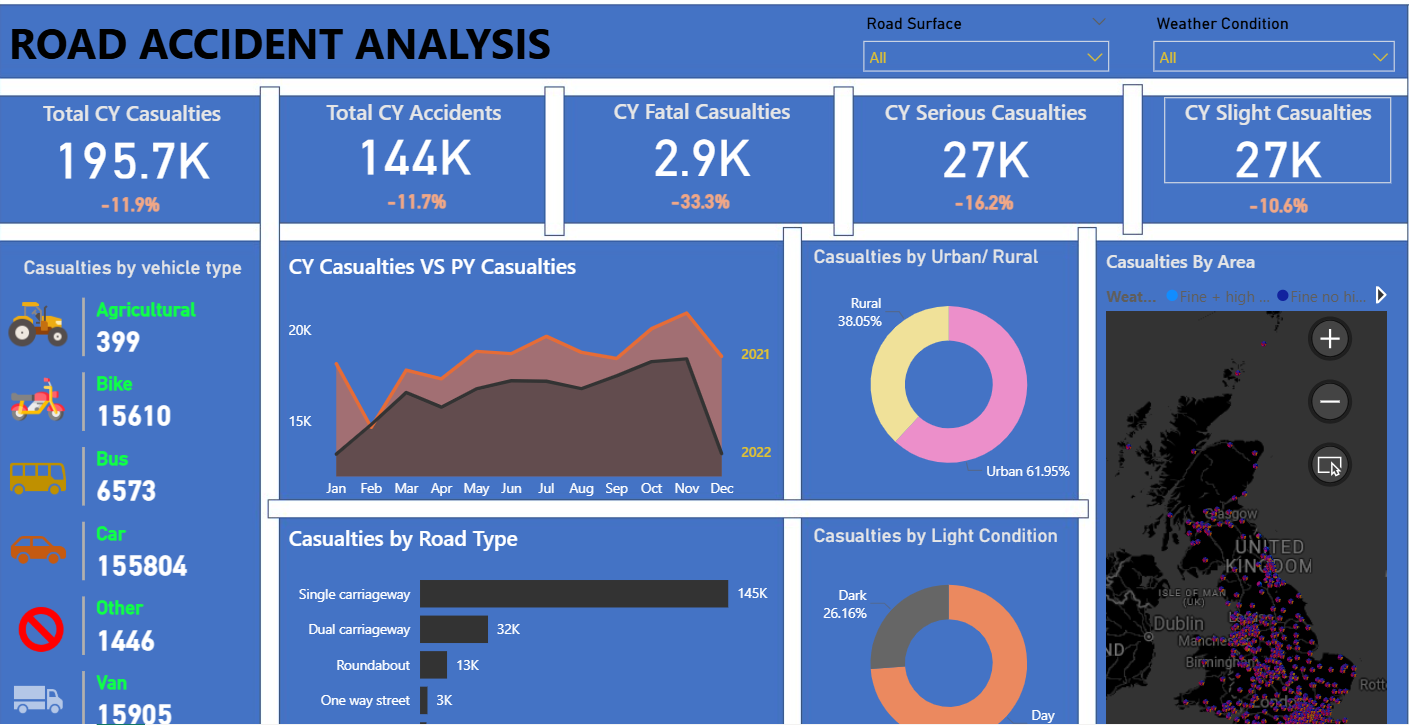

Layout of this report page (visuals, bound fields, positions):
{"tool":"powerbi","page":{"name":"Page 2","canvas":[1280,720],"ordinal":0},"visuals":[{"type":"card","title":"CY Fatal Casualties","fields":{"Values":["Data.CY Casualties"]},"box":[538.1,92.9,202.7,76],"z":0,"group":"g3"},{"type":"card","title":"Total CY Accidents","fields":{"Values":["Data.CY Accidents Count"]},"box":[266.6,94.1,232.8,73.6],"z":0,"group":"g2"},{"type":"card","title":"CY Serious Casualties","fields":{"Values":["Data.CY Casualties"]},"box":[790.4,94.7,202.7,76],"z":0,"group":"g4"},{"type":"card","title":"CY Slight Casualties","fields":{"Values":["Data.CY Casualties"]},"box":[1049.7,94.7,202.7,76],"z":0,"group":"g5"},{"type":"group","id":"g1","title":"Group 1","box":[31.4,95.3,202.7,109.4],"z":0},{"type":"card","title":"Total CY Casualties","fields":{"Values":["Data.CY Casualties"]},"box":[31.4,95.3,202.7,76],"z":0,"group":"g1"},{"type":"group","id":"g2","title":"Group 1","box":[266.6,94.1,232.8,109.7],"z":1000},{"type":"card","fields":{"Values":["Data.YoY Accidents"]},"box":[316.5,171.2,137.5,32.6],"z":1000,"group":"g2"},{"type":"card","fields":{"Values":["Data.YoY Casualties"]},"box":[606.4,173.4,63.9,29],"z":1000,"group":"g3"},{"type":"card","fields":{"Values":["Data.YoY Casualties"]},"box":[858.7,175.2,63.9,29],"z":1000,"group":"g4"},{"type":"card","fields":{"Values":["Data.YoY Casualties"]},"box":[99.7,175.8,63.9,29],"z":1000,"group":"g1"},{"type":"group","id":"g3","title":"Group 1","box":[538.1,92.9,202.7,109.8],"z":2000},{"type":"group","id":"g4","title":"Group 1","box":[790.4,94.7,203.1,109.8],"z":3000},{"type":"card","fields":{"Values":["Data.YoY Casualties"]},"box":[1119.7,177,63.1,28.8],"z":4000},{"type":"group","id":"g5","title":"Group 1","box":[1049.7,94.7,202.7,76],"z":5000},{"type":"textbox","box":[17.8,15.1,975.6,78.2],"z":6000},{"type":"multiRowCard","fields":{"Values":["Data.Vehicle_Type (groups)","Data.CY Casualties"]},"box":[83.7,267.6,150.9,435],"z":7000},{"type":"image","box":[14.1,267.6,69,56.3],"z":8000},{"type":"image","box":[14.1,339.4,69,47.9],"z":9000},{"type":"image","box":[14.1,470.4,69,53.5],"z":10000},{"type":"image","box":[14.1,405.6,69,54.9],"z":11000},{"type":"image","box":[5.6,605.6,87.3,47.9],"z":12000},{"type":"image","box":[14.1,542.3,74.6,50.7],"z":13000},{"type":"textbox","box":[31,231,231,73.2],"z":14000},{"type":"areaChart","title":"CY Casualties VS PY Casualties ","fields":{"Category":["Calender.Month"],"Y":["Sum(Data.Number_of_Casualties)"],"Series":["Calender.Date.Variation.Date Hierarchy.Year"]},"box":[266.2,231,442.3,229.6],"z":15000},{"type":"donutChart","title":" Casualties by Urban/ Rural ","fields":{"Category":["Data.Urban_or_Rural_Area"],"Y":["Data.CY Casualties"]},"box":[733.8,225.4,250.7,229.6],"z":16000},{"type":"donutChart","title":" Casualties by Light Condition","fields":{"Y":["Data.CY Casualties"],"Category":["Data.Light_Conditions (groups)"]},"box":[733.8,473.2,250.7,229.6],"z":17000},{"type":"barChart","title":" Casualties by Road Type","fields":{"Category":["Data.Road_Type"],"Y":["Data.CY Casualties"]},"box":[266.2,473.2,442.3,229.6],"z":18000},{"type":"map","title":"Casualties By Area","fields":{"Y":["Data.Latitude"],"X":["Data.Longitude"],"Category":["Data.Local_Authority_(District)"],"Series":["Data.Weather_Conditions"]},"box":[993.5,229.2,259.3,473.4],"z":19000},{"type":"slicer","fields":{"Values":["Data.Weather_Conditions (groups)"]},"box":[1030.5,15.1,234.6,57.6],"z":20000},{"type":"slicer","fields":{"Values":["Data.Road_Surface_Conditions (groups)"]},"box":[772.6,15.1,238.8,57.6],"z":21000}]}

Visuals, with their boxes on the page's 1280x720 design canvas (x1, y1, x2, y2). These are canvas units, not pixel positions in the 1409x725 screenshot, which may show the page scaled, cropped or inside an application window:
"CY Fatal Casualties" card: bbox(538, 93, 741, 169)
"Total CY Accidents" card: bbox(267, 94, 499, 168)
"CY Serious Casualties" card: bbox(790, 95, 993, 171)
"CY Slight Casualties" card: bbox(1050, 95, 1252, 171)
"Group 1" group: bbox(31, 95, 234, 205)
"Total CY Casualties" card: bbox(31, 95, 234, 171)
"Group 1" group: bbox(267, 94, 499, 204)
card - Data.YoY Accidents: bbox(316, 171, 454, 204)
card - Data.YoY Casualties: bbox(606, 173, 670, 202)
card - Data.YoY Casualties: bbox(859, 175, 923, 204)
card - Data.YoY Casualties: bbox(100, 176, 164, 205)
"Group 1" group: bbox(538, 93, 741, 203)
"Group 1" group: bbox(790, 95, 994, 204)
card - Data.YoY Casualties: bbox(1120, 177, 1183, 206)
"Group 1" group: bbox(1050, 95, 1252, 171)
textbox: bbox(18, 15, 993, 93)
multiRowCard - Data.Vehicle_Type (groups) x Data.CY Casualties: bbox(84, 268, 235, 703)
image: bbox(14, 268, 83, 324)
image: bbox(14, 339, 83, 387)
image: bbox(14, 470, 83, 524)
image: bbox(14, 406, 83, 460)
image: bbox(6, 606, 93, 654)
image: bbox(14, 542, 89, 593)
textbox: bbox(31, 231, 262, 304)
"CY Casualties VS PY Casualties " areaChart: bbox(266, 231, 708, 461)
" Casualties by Urban/ Rural " donutChart: bbox(734, 225, 984, 455)
" Casualties by Light Condition" donutChart: bbox(734, 473, 984, 703)
" Casualties by Road Type" barChart: bbox(266, 473, 708, 703)
"Casualties By Area" map: bbox(994, 229, 1253, 703)
slicer - Data.Weather_Conditions (groups): bbox(1030, 15, 1265, 73)
slicer - Data.Road_Surface_Conditions (groups): bbox(773, 15, 1011, 73)
